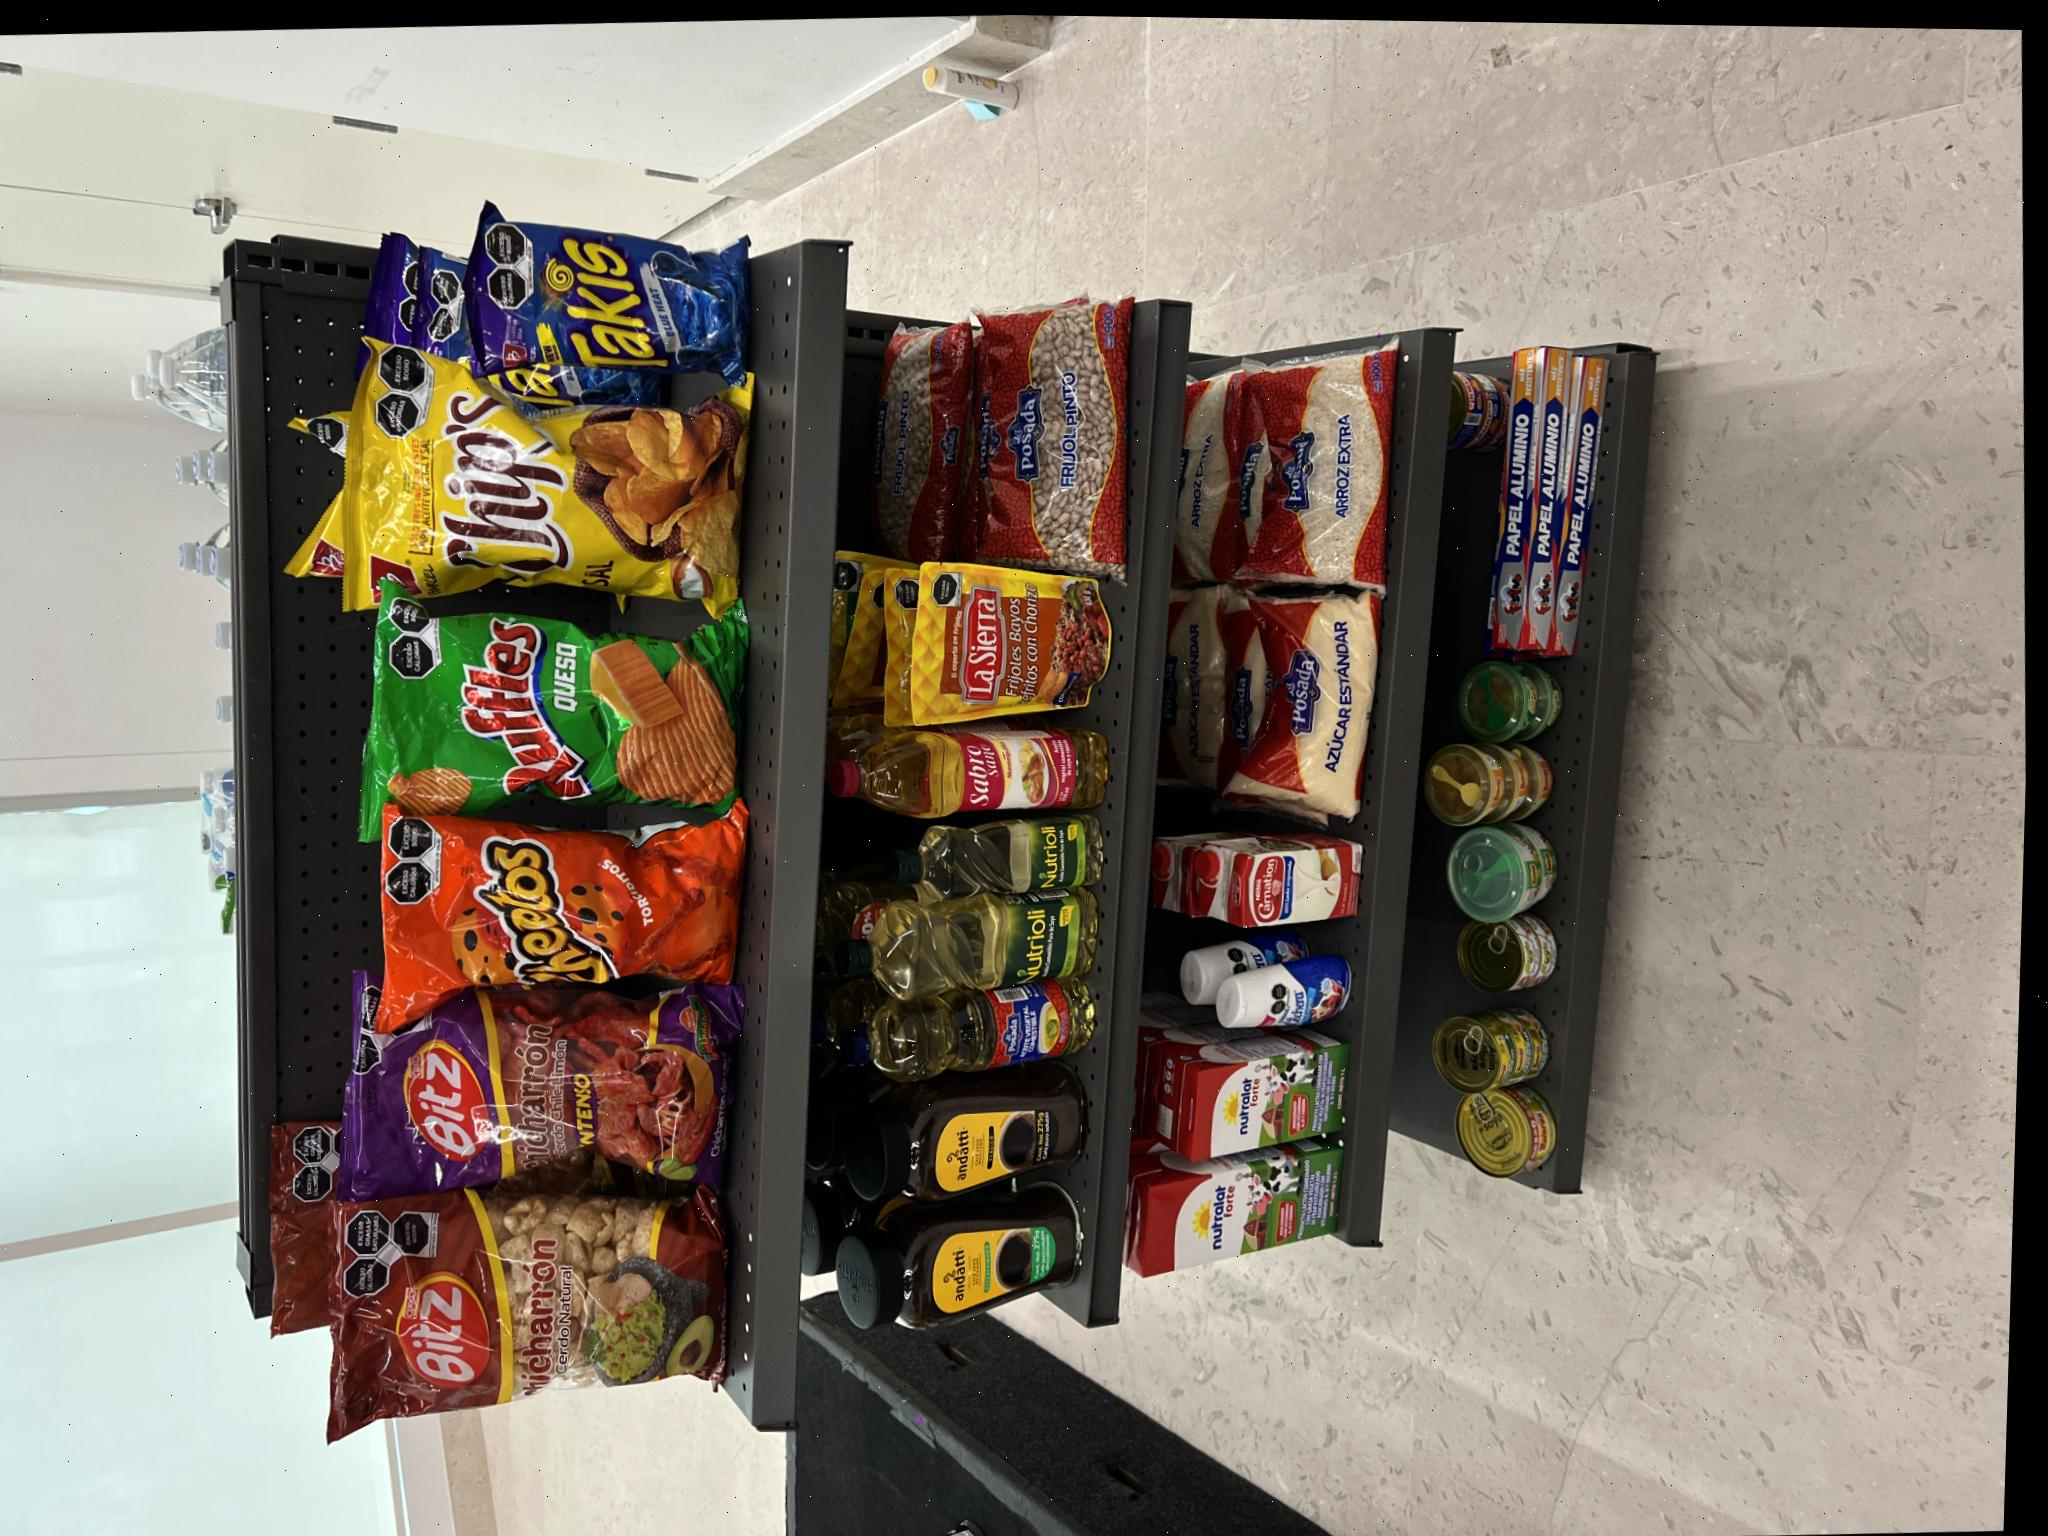aceite_nutrioli_400ml: (634, 971, 710, 1146)
aceite_nutrioli_850ml: (537, 939, 639, 1141)
aceite_posada: (458, 936, 550, 1133)
aceite_saborsano: (718, 934, 798, 1149)
andatti: (206, 958, 337, 1128), (334, 966, 442, 1126)
arroz_laposada: (934, 1275, 1177, 1439)
atun_dolores_naranja: (700, 1510, 779, 1536)
atun_dolores_normal: (487, 1523, 508, 1536)
azucar_laposada: (706, 1271, 932, 1425)
carnation: (598, 1294, 682, 1407)
cheetos: (519, 424, 732, 794)
chicharron_bitz_intenso: (350, 394, 568, 784)
chicharron_bitz_natural: (123, 389, 363, 797)
chips_sal: (929, 381, 1201, 792)
frijol_laposada: (951, 1018, 1227, 1168)
frijol_lasierra: (808, 958, 968, 1141)
lalechera: (497, 1278, 564, 1394)
leche_nutralatforte: (253, 1192, 377, 1396), (371, 1238, 481, 1397)
ruffles: (703, 403, 961, 791)
takis: (1150, 510, 1335, 781)
